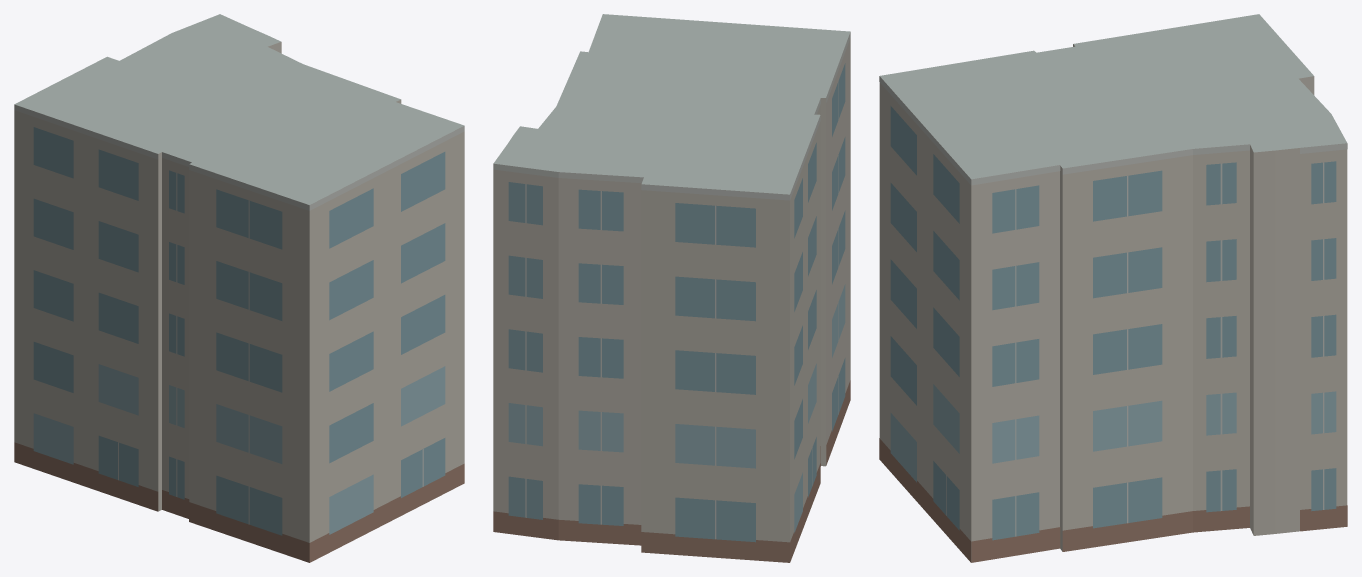
File: survey-upis-32725894.glb
3 views of the same model, side by side, from view 1: azimuth 30°, elevation 25°; view 2: azimuth 150°, elevation 25°; view 3: azimuth 270°, elevation 25° (orthographic). The views are drawn at different scales.
Parts seen in each view (by area): view 1: survey-upis-32725894.tmp; view 2: survey-upis-32725894.tmp; view 3: survey-upis-32725894.tmp.
Part boxes in pixels (left/top/right/bottom): survey-upis-32725894.tmp: left=14, top=14, right=464, bottom=562; survey-upis-32725894.tmp: left=493, top=14, right=850, bottom=562; survey-upis-32725894.tmp: left=879, top=14, right=1347, bottom=562.
Size of the model in its own units: 14.07 by 15.2 by 16.82.
